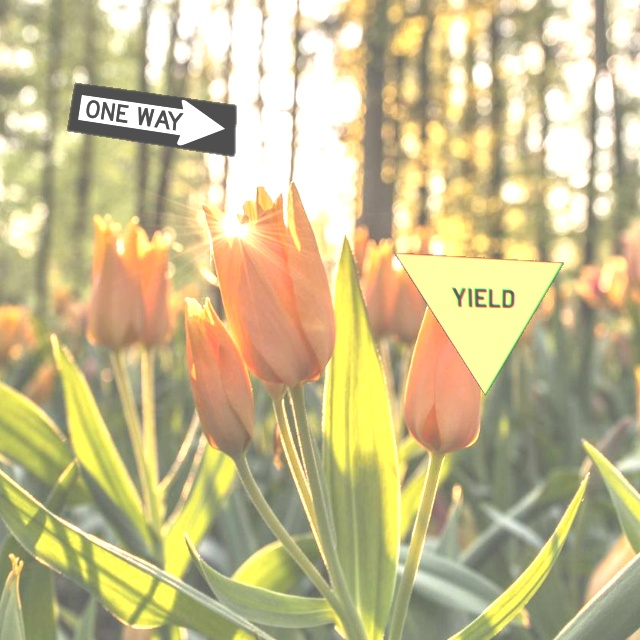ONE_WAY_ right: (66, 82, 237, 157)
YIELD: (393, 252, 564, 396)
